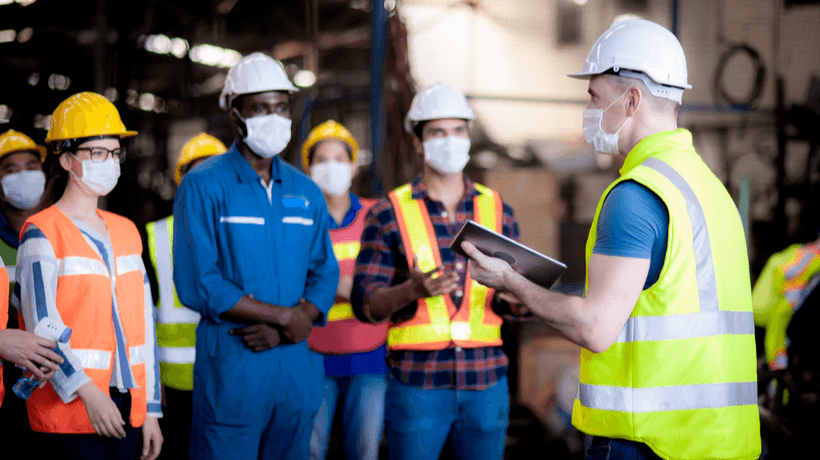Safety Helmet: (564, 10, 704, 168), (40, 82, 149, 208), (215, 41, 307, 175), (397, 68, 482, 187), (300, 112, 366, 208), (3, 120, 47, 221)
